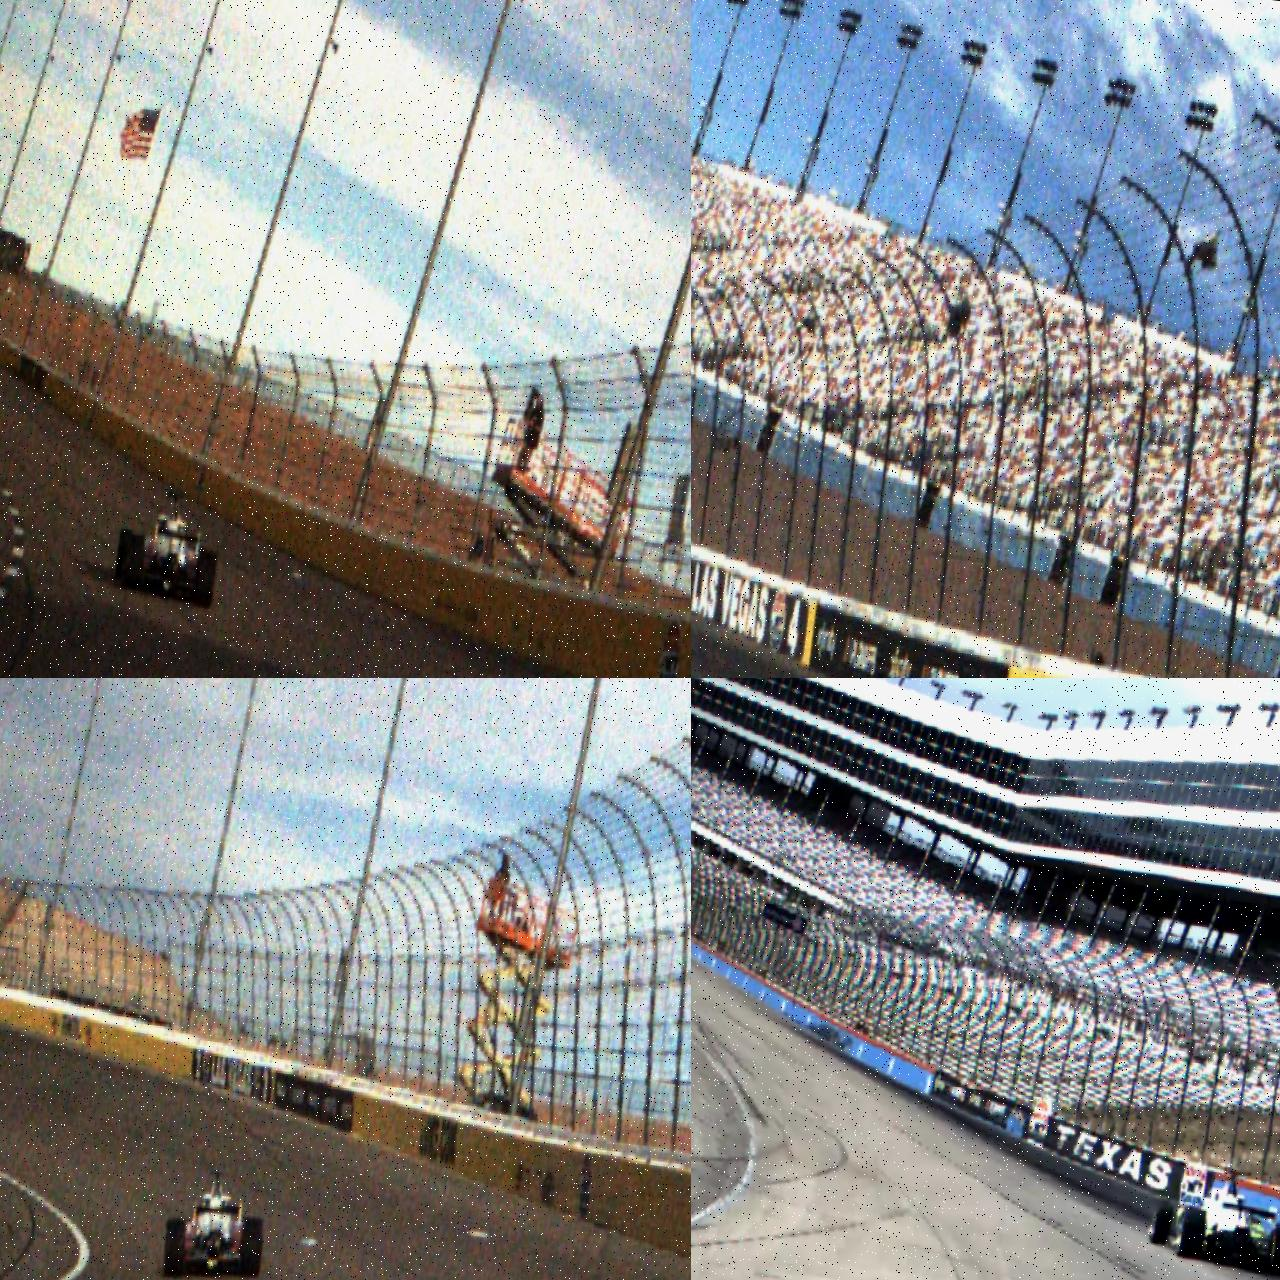AV: (1143, 1160, 1280, 1279), (113, 485, 226, 610), (159, 1162, 272, 1280)
Wheel: (237, 1217, 266, 1280), (1175, 1207, 1207, 1261), (161, 1218, 189, 1279), (120, 533, 148, 591), (195, 549, 219, 610), (1149, 1201, 1175, 1247), (114, 526, 134, 584), (1266, 1223, 1280, 1279)
